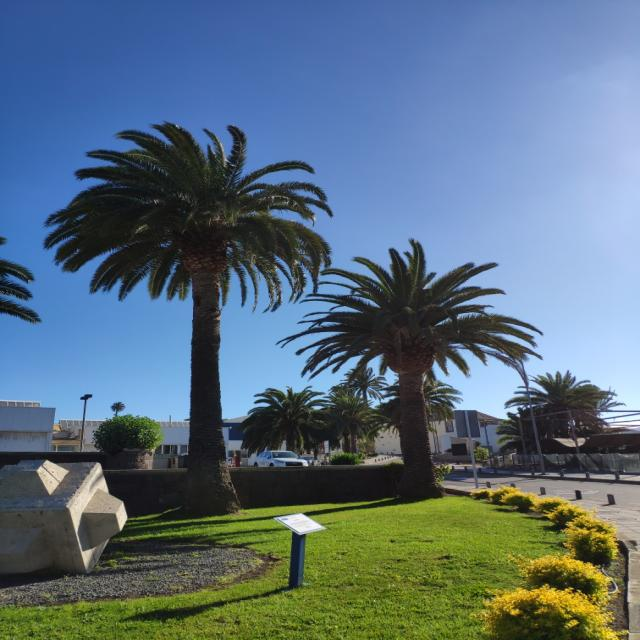Palm-Trees: (63, 119, 339, 512), (282, 240, 543, 490)
